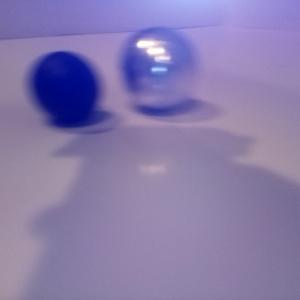alive_ball: (120, 28, 200, 113)
dead_ball: (31, 51, 102, 127)
